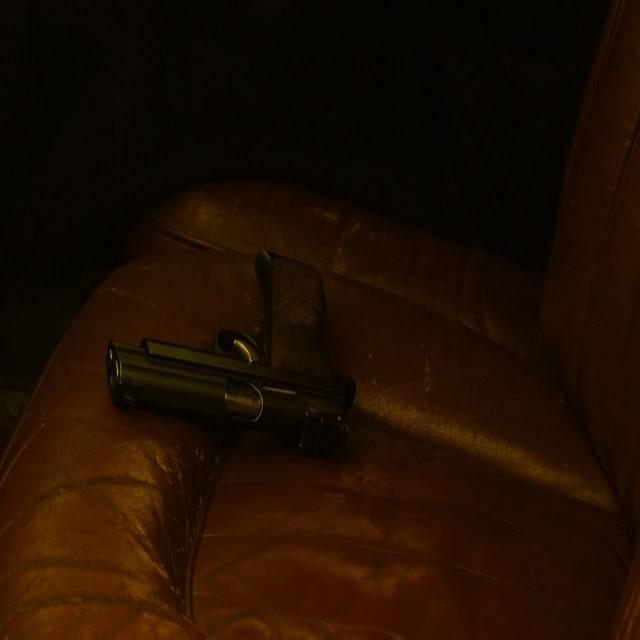gun-knife-thesis - v11 Yolov5 augmented: (100, 239, 363, 455)
